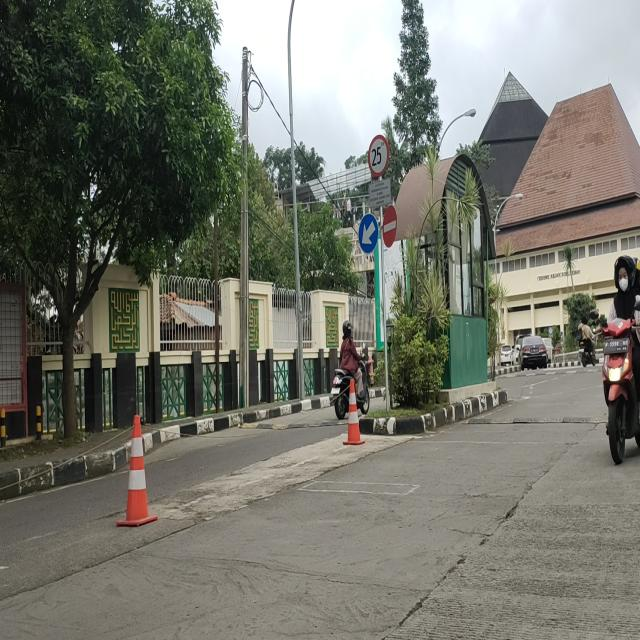helmet: (613, 256, 636, 296), (341, 322, 353, 339)
no-helmet: (582, 316, 588, 326)
